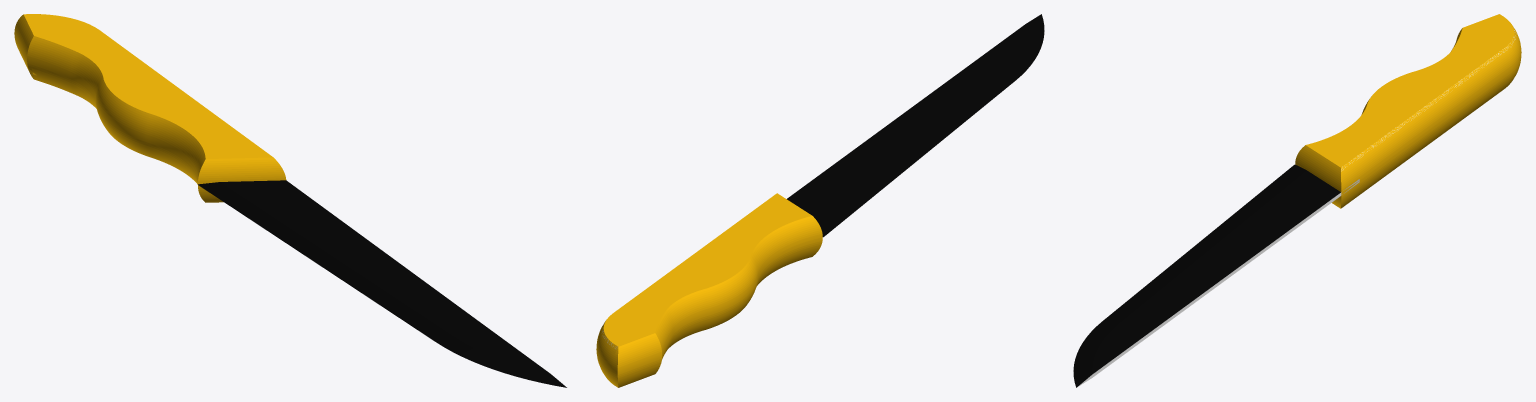
The model's file is knife_05_origin_gt_1.dae.
The picture shows the model from 3 angles, left to right: view 1: azimuth 30°, elevation 25°; view 2: azimuth 150°, elevation 25°; view 3: azimuth 330°, elevation 25°; orthographic projection. The views are drawn at different scales.
Visible parts, largest first — view 1: Group_4 (×2); view 2: Group_4 (×2); view 3: Group_4 (×5).
Part boxes in pixels (x1,y1,x2,y2): Group_4 (×2): [14, 14, 566, 387]; Group_4 (×2): [596, 14, 1044, 387]; Group_4 (×5): [1073, 14, 1521, 387].
Size of the model in its own units: 0.7839 by 9.83 by 0.4724.
7 materials, 1 textured.
